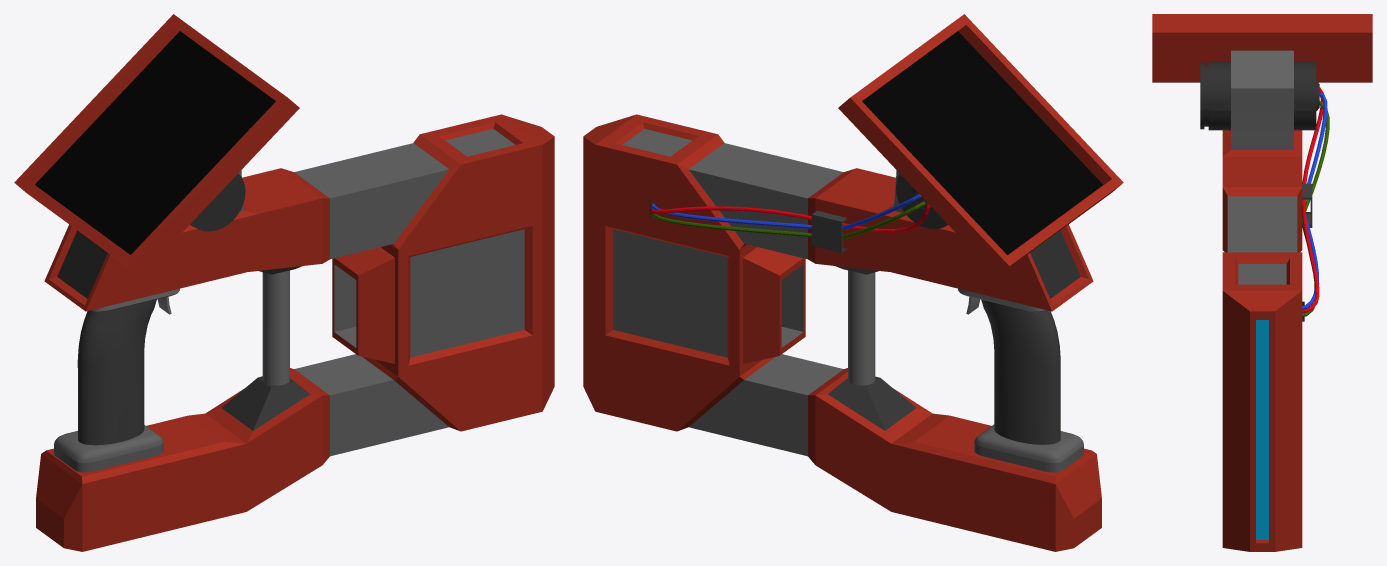
The model's file is Sanner3Colorbatteryslotv2.fbx.
3 views of the same model, side by side, from view 1: azimuth 30°, elevation 25°; view 2: azimuth 150°, elevation 25°; view 3: azimuth 270°, elevation 25° (orthographic). The views are drawn at different scales.
Parts seen in each view (by area): view 1: Cube; view 2: Cube; view 3: Cube.
Part boxes in pixels (x1,y1,x2,y2): Cube: (14, 14, 554, 551); Cube: (583, 14, 1123, 551); Cube: (1152, 14, 1372, 551).
Bounding box in the file's own units: 543 × 458 × 216.
